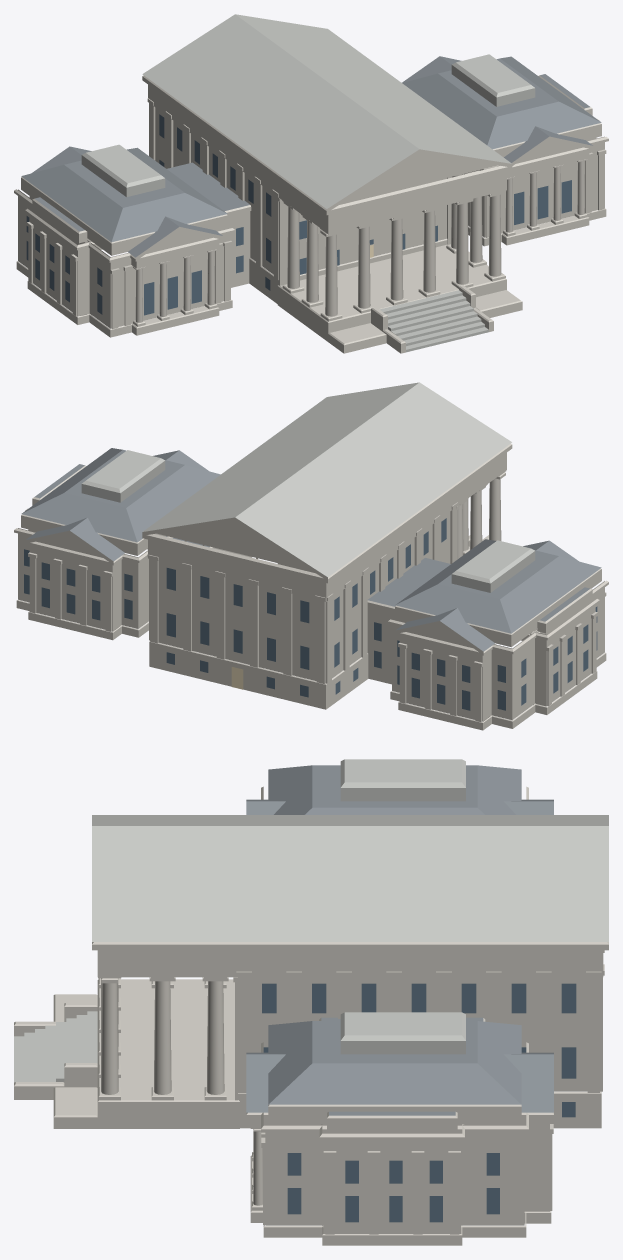
File: ric-virginia-state-capitol.glb
The picture shows the model from 3 angles, top to bottom: view 1: azimuth 30°, elevation 25°; view 2: azimuth 150°, elevation 25°; view 3: azimuth 270°, elevation 25°; orthographic projection. The views are drawn at different scales.
Visible parts, largest first — view 1: Virginia State Capitol; view 2: Virginia State Capitol; view 3: Virginia State Capitol.
Boxes of the visible parts, left/top/right/bottom form: Virginia State Capitol: left=14, top=14, right=608, bottom=353; Virginia State Capitol: left=14, top=382, right=608, bottom=730; Virginia State Capitol: left=14, top=759, right=608, bottom=1245.
Bounding box in the file's own units: 80.8 × 25.51 × 56.85.
